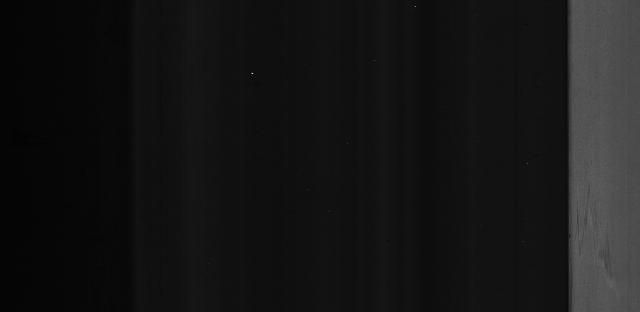silk_spot: (575, 178, 633, 296)
